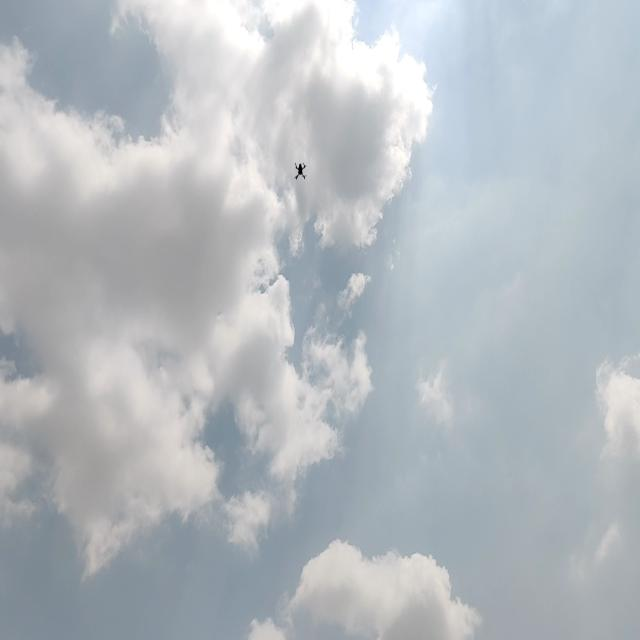drone: (291, 149, 313, 184)
